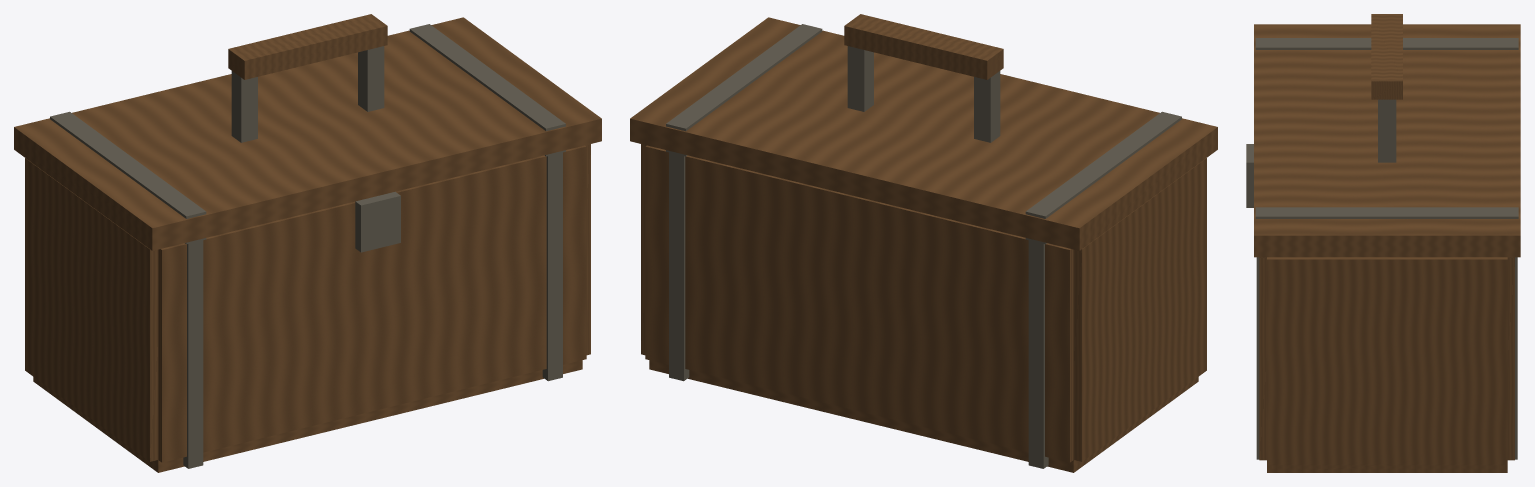
Rendered from prop-toolbox.gltf.
3 views of the same model, side by side, from view 1: azimuth 30°, elevation 25°; view 2: azimuth 150°, elevation 25°; view 3: azimuth 270°, elevation 25° (orthographic). The views are drawn at different scales.
Visible parts, largest first — view 1: object 4, toolbox_lid, object 5, toolbox_handle, object 7, object 8, object 10, object 12, object 6; view 2: object 3, toolbox_lid, object 5, toolbox_handle, object 7, object 8, object 10, object 6; view 3: toolbox_lid, object 6, toolbox_handle, object 7, object 4, object 3, object 10, object 12.
Part boxes in pixels (x1=…): object 4: x1=158, y1=145, x2=586, y2=462; toolbox_lid: x1=14, y1=17, x2=601, y2=250; object 5: x1=25, y1=158, x2=158, y2=461; toolbox_handle: x1=228, y1=14, x2=387, y2=142; object 7: x1=33, y1=360, x2=582, y2=472; object 8: x1=183, y1=240, x2=203, y2=468; object 10: x1=542, y1=152, x2=562, y2=381; object 12: x1=355, y1=191, x2=400, y2=252; object 6: x1=585, y1=144, x2=590, y2=355; object 3: x1=645, y1=145, x2=1073, y2=462; toolbox_lid: x1=630, y1=17, x2=1217, y2=250; object 5: x1=1073, y1=158, x2=1206, y2=461; toolbox_handle: x1=844, y1=14, x2=1003, y2=142; object 7: x1=649, y1=360, x2=1198, y2=472; object 8: x1=1028, y1=240, x2=1048, y2=468; object 10: x1=669, y1=152, x2=689, y2=381; object 6: x1=641, y1=144, x2=646, y2=355; toolbox_lid: x1=1254, y1=24, x2=1520, y2=257; object 6: x1=1267, y1=257, x2=1507, y2=464; toolbox_handle: x1=1371, y1=14, x2=1402, y2=162; object 7: x1=1267, y1=464, x2=1507, y2=472; object 4: x1=1259, y1=257, x2=1266, y2=460; object 3: x1=1507, y1=257, x2=1514, y2=460; object 10: x1=1256, y1=257, x2=1517, y2=459; object 12: x1=1246, y1=144, x2=1253, y2=207.
Size of the model in its own units: 0.27 by 0.194 by 0.148.
2 materials, 1 textured.
